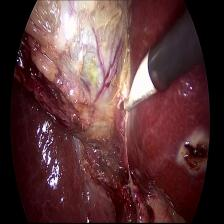Hook: (119, 44, 157, 125)
